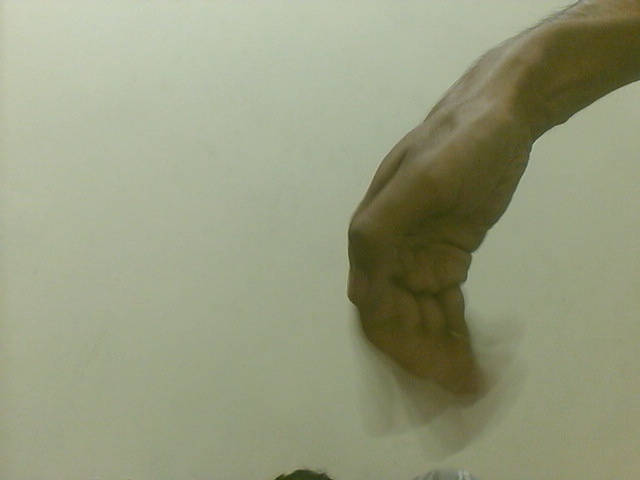hand: (339, 74, 529, 454)
